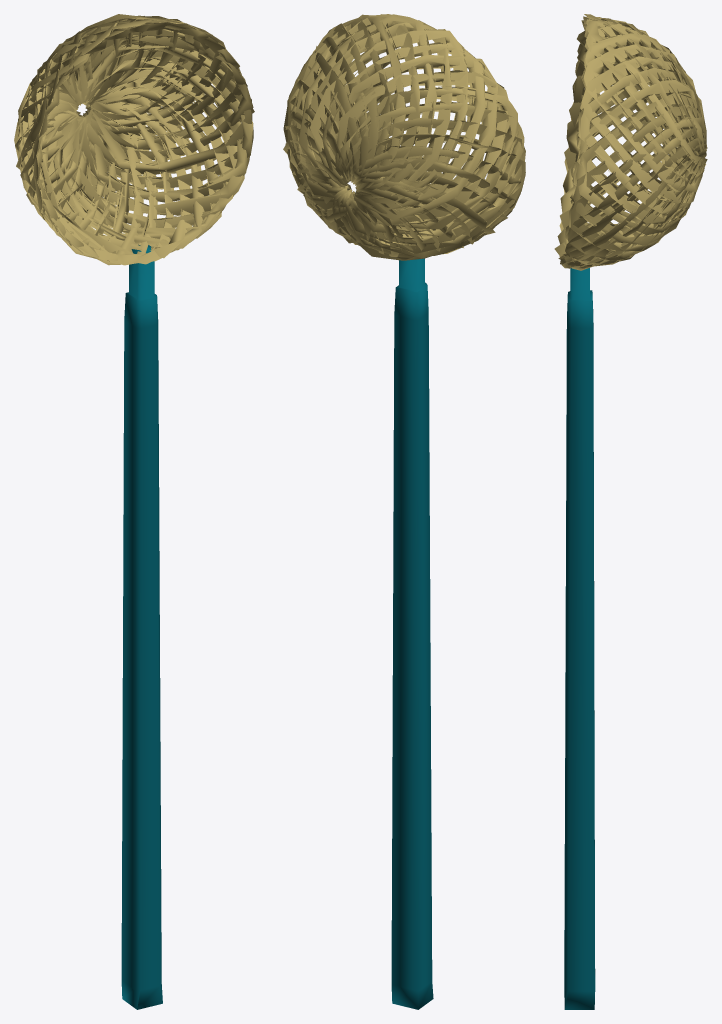
File: net.fbx
3 views of the same model, side by side, from view 1: azimuth 30°, elevation 25°; view 2: azimuth 150°, elevation 25°; view 3: azimuth 270°, elevation 25° (orthographic).
Parts seen in each view (by area): view 1: Celtic, Cube; view 2: Celtic, Cube; view 3: Celtic, Cube.
Boxes of the visible parts, left/top/right/bottom form: Celtic: left=14, top=14, right=254, bottom=265; Cube: left=121, top=244, right=162, bottom=1009; Celtic: left=283, top=14, right=525, bottom=260; Cube: left=391, top=258, right=433, bottom=1009; Celtic: left=554, top=14, right=707, bottom=270; Cube: left=564, top=268, right=595, bottom=1009.
Bounding box in the file's own units: 92.81 × 389 × 55.32.
